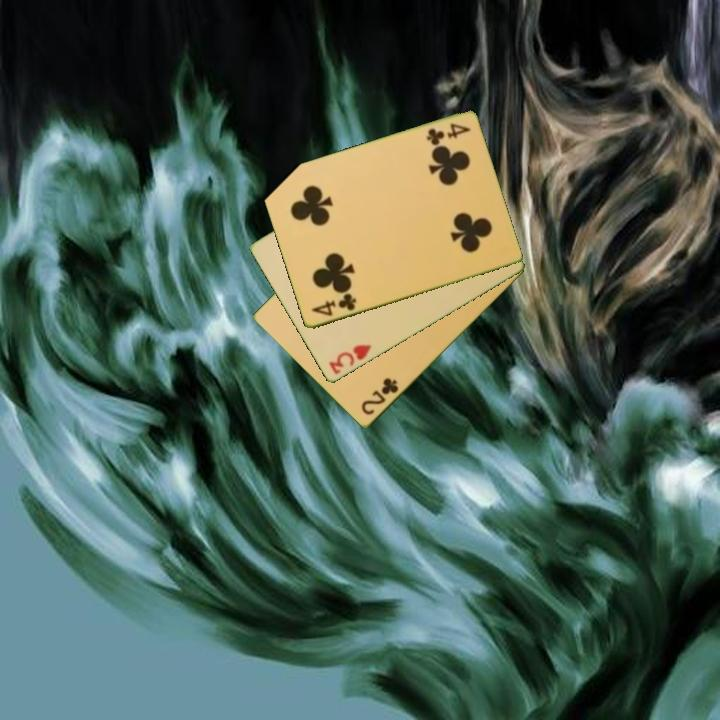2c: (358, 375, 401, 418)
3h: (325, 341, 375, 378)
4c: (308, 290, 359, 320), (423, 120, 473, 148)
